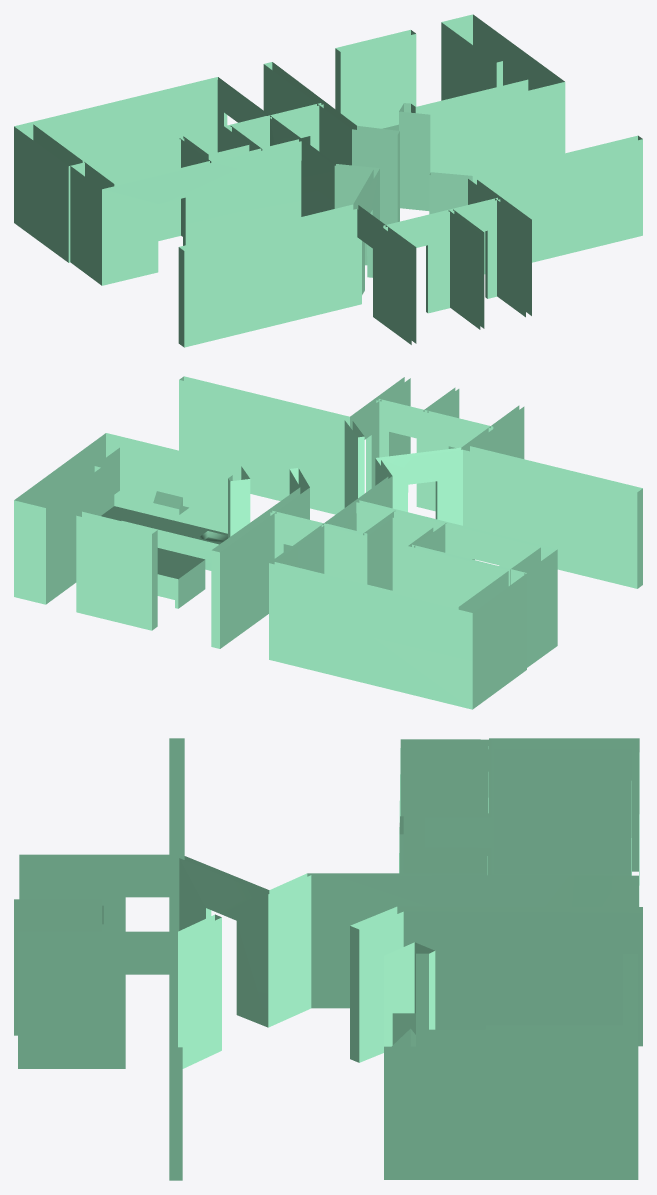
File: cotf_interior.FBX
3 renders of one model, top to bottom at view 1: azimuth 30°, elevation 25°; view 2: azimuth 150°, elevation 25°; view 3: azimuth 270°, elevation 25°, orthographic. The views are drawn at different scales.
Visible parts, largest first — view 1: cotf_interior; view 2: cotf_interior; view 3: cotf_interior.
Part boxes in pixels (x1,y1,x2,y2): cotf_interior: (14, 14, 642, 347); cotf_interior: (14, 376, 642, 709); cotf_interior: (14, 738, 642, 1180).
Bounding box in the file's own units: 18.61 × 3.77 × 16.01.
